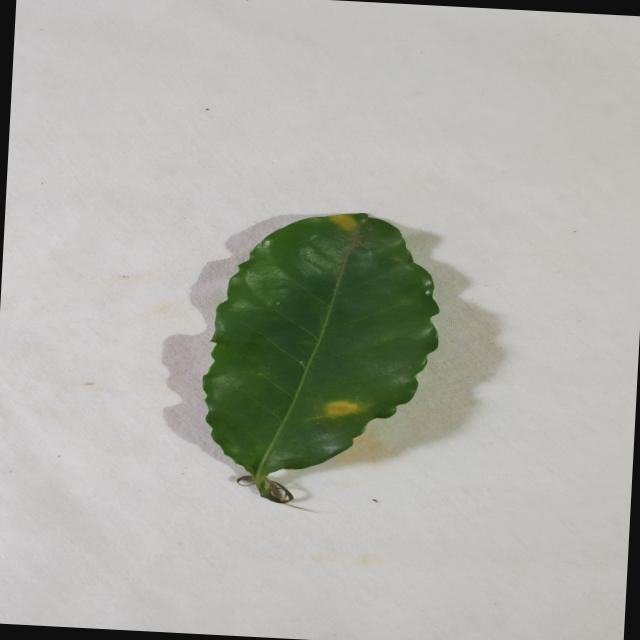KaratDaunKopi: (325, 401, 357, 416), (328, 215, 357, 231)
